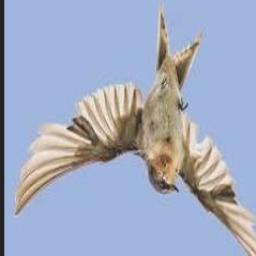Swallow: (13, 0, 256, 256)
